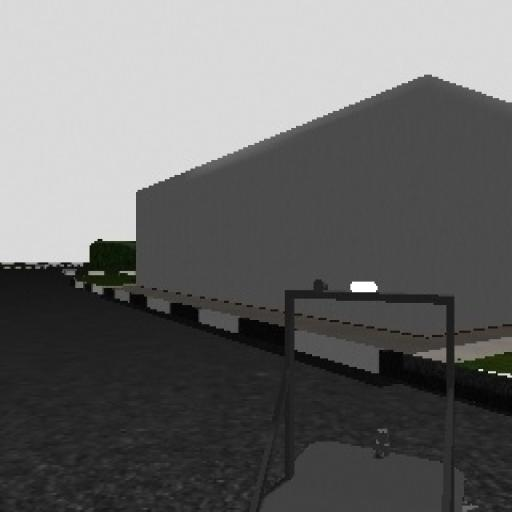huskya200: (202, 259, 479, 512)
